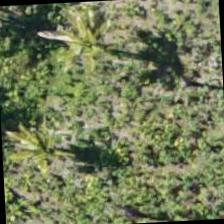Kelapa_Sawit: (0, 99, 91, 194), (37, 0, 132, 86)
